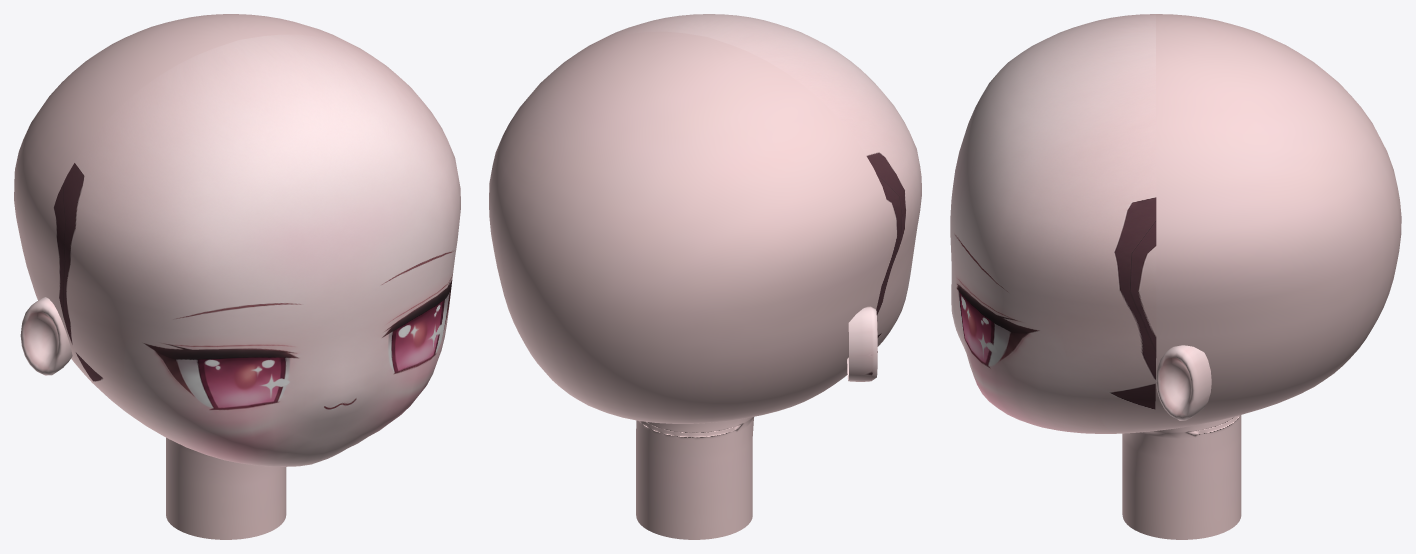
Rendered from head_subd1.obj.
The picture shows the model from 3 angles, left to right: view 1: azimuth 30°, elevation 25°; view 2: azimuth 150°, elevation 25°; view 3: azimuth 270°, elevation 25°; orthographic projection. The views are drawn at different scales.
Visible parts, largest first — view 1: Head, Ear_R; view 2: Head, Ear_R; view 3: Head, Ear_L.
Part boxes in pixels (bbox=[...]): Head: bbox=[14, 14, 460, 539]; Ear_R: bbox=[20, 297, 72, 375]; Head: bbox=[489, 14, 921, 539]; Ear_R: bbox=[847, 306, 877, 381]; Head: bbox=[950, 14, 1401, 539]; Ear_L: bbox=[1156, 345, 1211, 420].
Size of the model in its own units: 0.8586 by 1.01 by 0.8651.
Materials: 1 (1 with a texture image).
